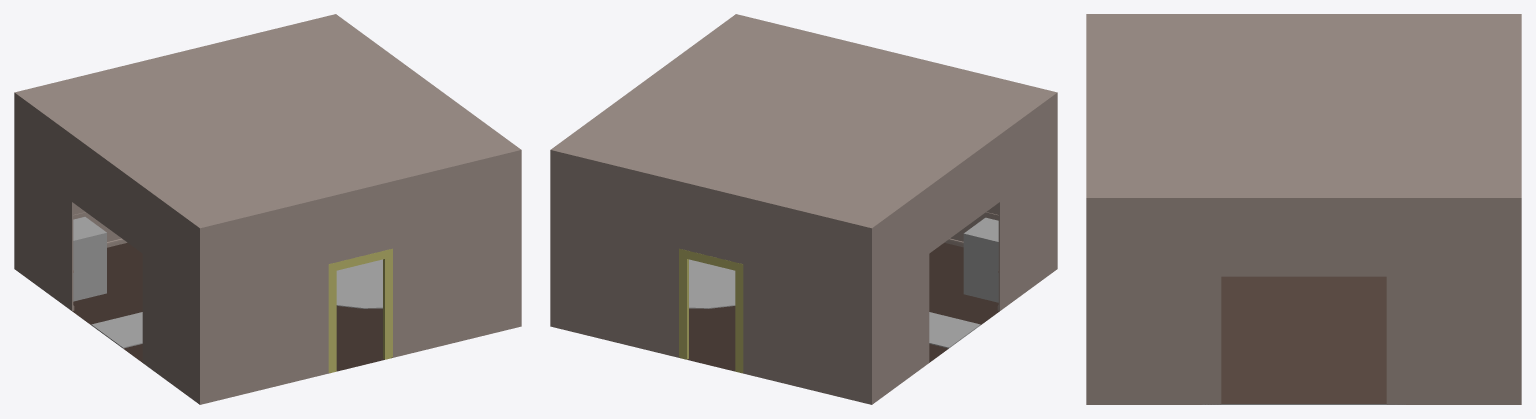
File: Room19_EntranceHall.fbx
3 renders of one model, left to right at view 1: azimuth 30°, elevation 25°; view 2: azimuth 150°, elevation 25°; view 3: azimuth 270°, elevation 25°, orthographic. The views are drawn at different scales.
Parts seen in each view (by area): view 1: Roof, WallSlicedPosZ, WallOpenPosX, WallSlicedPosZ22, Floor, WallOpenPosX1, pCube22, DoorFramePosZ, pCylinder2, pCube23, WallOpenNegX, WallSlicedNegZ; view 2: Roof, WallSlicedNegZ, WallOpenPosX, WallSlicedNegZ32, Floor, WallOpenPosX1, pCube21, DoorFrameNegZ, pCylinder2, pCube23, WallSlicedPosZ, WallOpenNegX (+1 smaller); view 3: Roof, WallOpenNegX, pCube281, WallOpenNegX2, WallSlicedPosZ, WallSlicedNegZ, WallOpenPosX.
Part boxes in pixels (left/top/right/bottom): Roof: left=17, top=15, right=518, bottom=227; WallSlicedPosZ: left=199, top=149, right=521, bottom=364; WallOpenPosX: left=14, top=92, right=201, bottom=364; WallSlicedPosZ22: left=198, top=286, right=521, bottom=404; Floor: left=72, top=242, right=392, bottom=373; WallOpenPosX1: left=14, top=229, right=201, bottom=404; pCube22: left=73, top=217, right=106, bottom=301; DoorFramePosZ: left=328, top=248, right=392, bottom=372; pCylinder2: left=336, top=259, right=382, bottom=308; pCube23: left=91, top=312, right=142, bottom=348; WallOpenNegX: left=335, top=14, right=521, bottom=286; WallSlicedNegZ: left=14, top=14, right=334, bottom=226; Roof: left=553, top=15, right=1054, bottom=227; WallSlicedNegZ: left=550, top=149, right=872, bottom=364; WallOpenPosX: left=870, top=92, right=1057, bottom=364; WallSlicedNegZ32: left=550, top=286, right=872, bottom=404; Floor: left=679, top=242, right=999, bottom=373; WallOpenPosX1: left=869, top=230, right=1057, bottom=404; pCube21: left=963, top=217, right=998, bottom=302; DoorFrameNegZ: left=679, top=248, right=743, bottom=372; pCylinder2: left=689, top=259, right=735, bottom=308; pCube23: left=929, top=312, right=980, bottom=348; WallSlicedPosZ: left=736, top=14, right=1057, bottom=228; WallOpenNegX: left=550, top=14, right=736, bottom=286; Roof: left=1088, top=14, right=1519, bottom=197; WallOpenNegX: left=1086, top=197, right=1521, bottom=357; pCube281: left=1221, top=276, right=1386, bottom=403; WallOpenNegX2: left=1086, top=357, right=1521, bottom=404; WallSlicedPosZ: left=1086, top=14, right=1087, bottom=357; WallSlicedNegZ: left=1520, top=14, right=1521, bottom=357; WallOpenPosX: left=1086, top=14, right=1521, bottom=14.
Bounding box in the file's own units: 800 × 420 × 800.
